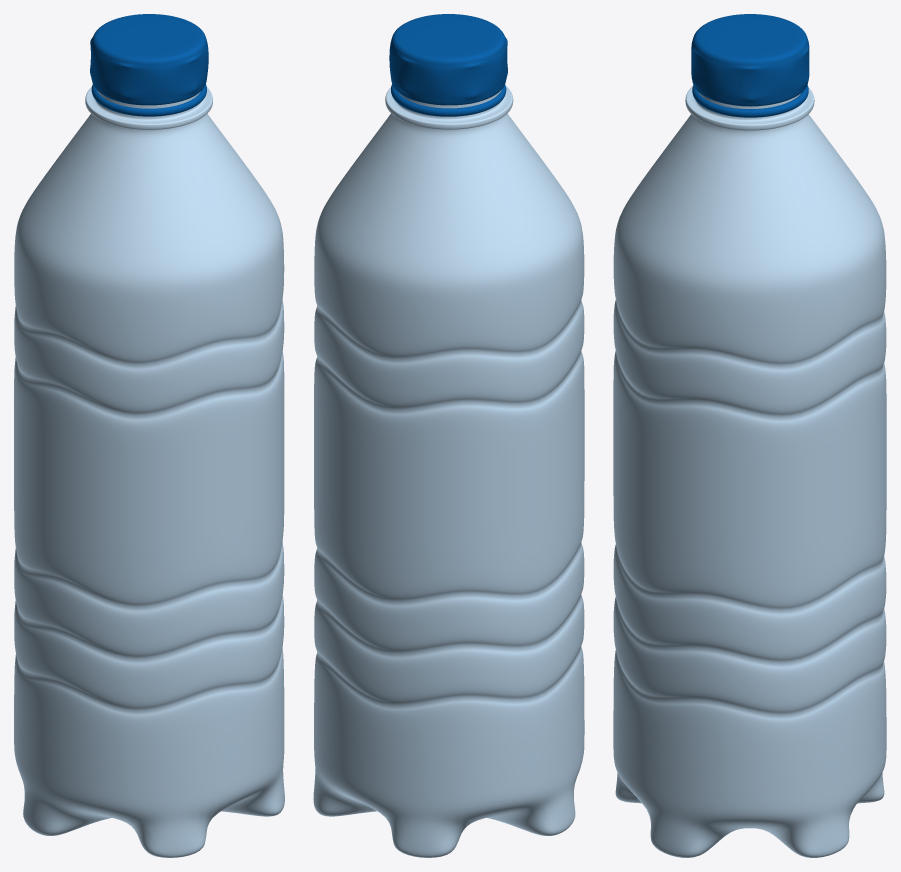
File: Water Bottle1.fbx
3 views of the same model, side by side, from view 1: azimuth 30°, elevation 25°; view 2: azimuth 150°, elevation 25°; view 3: azimuth 270°, elevation 25° (orthographic).
Parts seen in each view (by area): view 1: Cylinder; view 2: Cylinder; view 3: Cylinder.
Boxes of the visible parts, x1,y1,x2,y2 form: Cylinder: (14, 14, 284, 857); Cylinder: (313, 14, 584, 857); Cylinder: (613, 14, 886, 857).
Bounding box in the file's own units: 136 × 427 × 136.
Materials: 2 (2 with a texture image).
